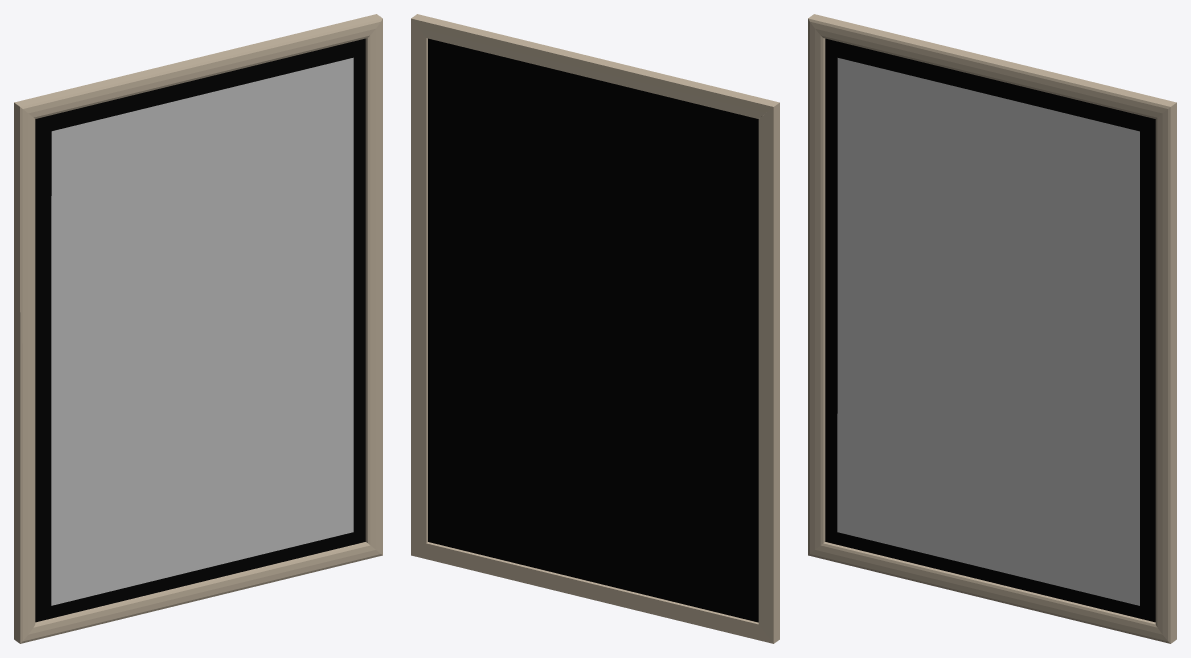
Rendered from InariFrame.obj.
The picture shows the model from 3 angles, left to right: view 1: azimuth 30°, elevation 25°; view 2: azimuth 150°, elevation 25°; view 3: azimuth 330°, elevation 25°; orthographic projection.
Visible parts, largest first — view 1: Photo_Cube_Material_Inari.jpg, MetalFrame_Cylinder_Aluminium.006, Frame_Black_Material.007; view 2: Frame_Black_Material.007, MetalFrame_Cylinder_Aluminium.006; view 3: Photo_Cube_Material_Inari.jpg, MetalFrame_Cylinder_Aluminium.006, Frame_Black_Material.007.
Part boxes in pixels (x1,y1,x2,y2): Photo_Cube_Material_Inari.jpg: (51,57,353,605); MetalFrame_Cylinder_Aluminium.006: (14,14,382,643); Frame_Black_Material.007: (35,38,365,622); Frame_Black_Material.007: (428,38,758,622); MetalFrame_Cylinder_Aluminium.006: (411,14,779,643); Photo_Cube_Material_Inari.jpg: (837,58,1139,605); MetalFrame_Cylinder_Aluminium.006: (808,14,1176,643); Frame_Black_Material.007: (825,38,1155,622).
Size of the model in its own units: 48 by 67.91 by 1.6.
